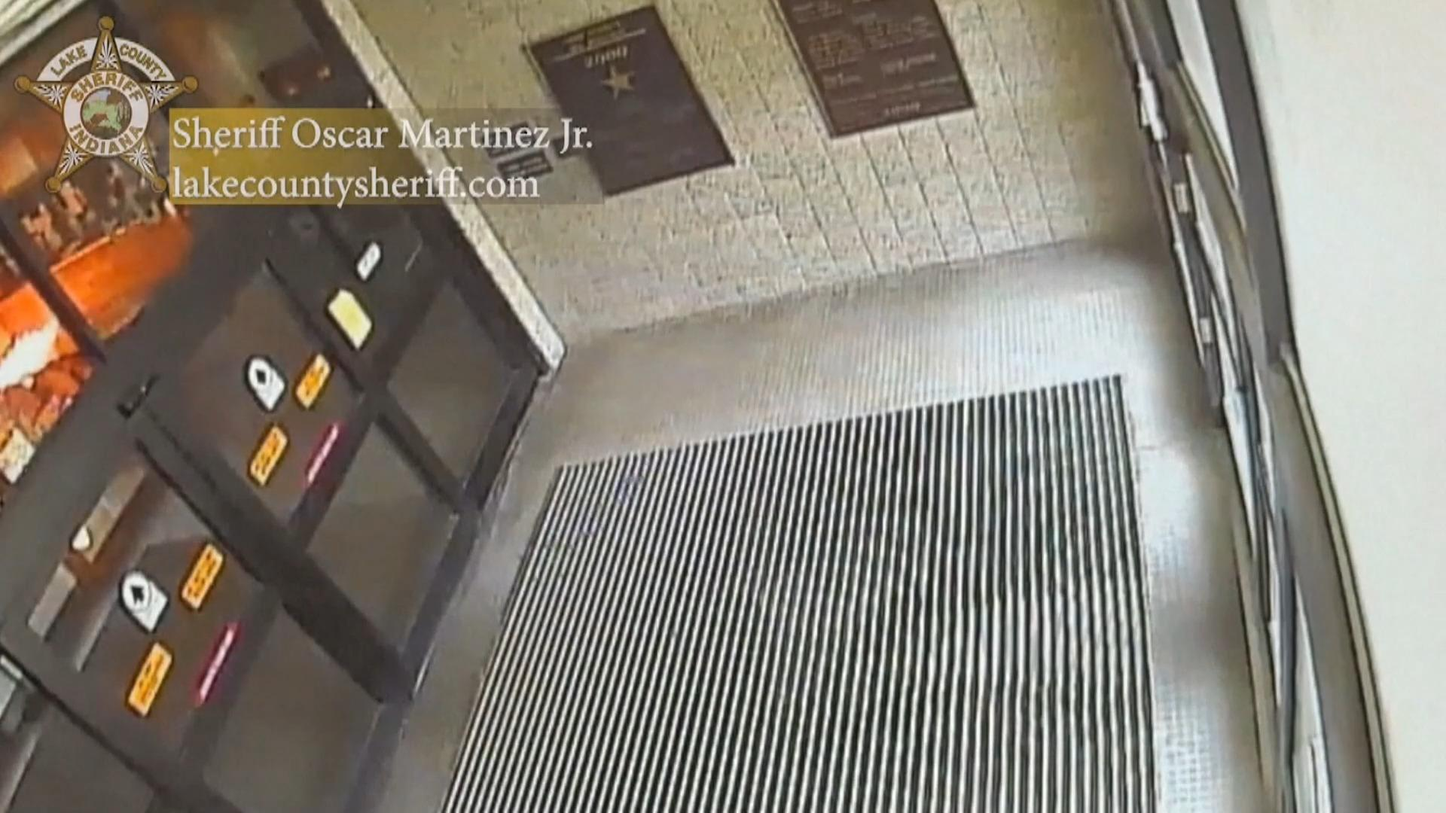fire: (0, 316, 59, 390)
